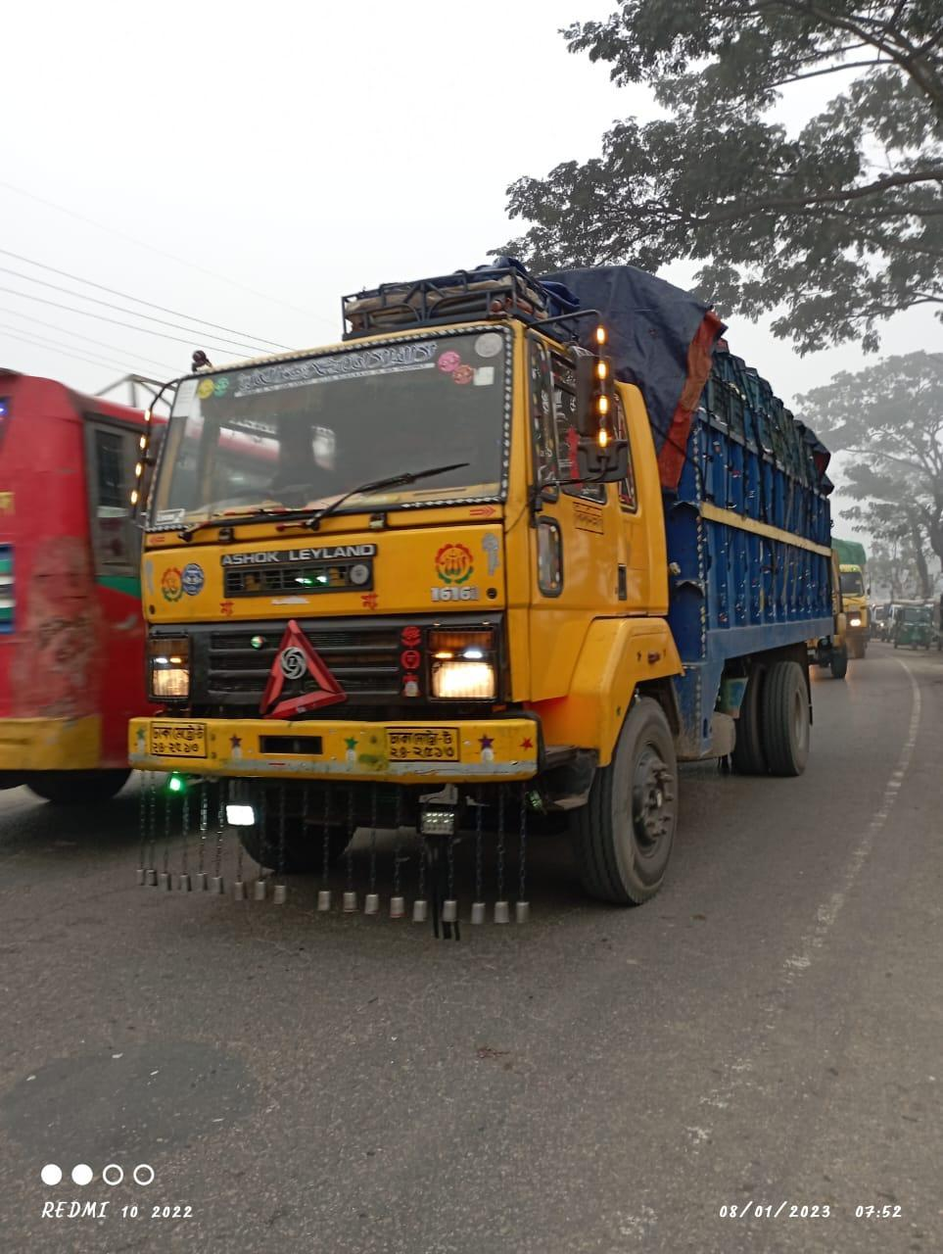Bus: (1, 350, 145, 806)
Truck: (126, 256, 851, 909)
